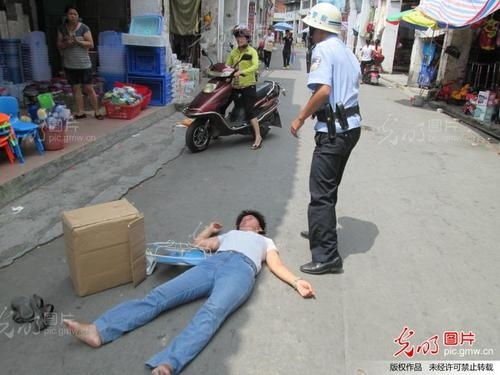falling: (37, 202, 318, 375)
